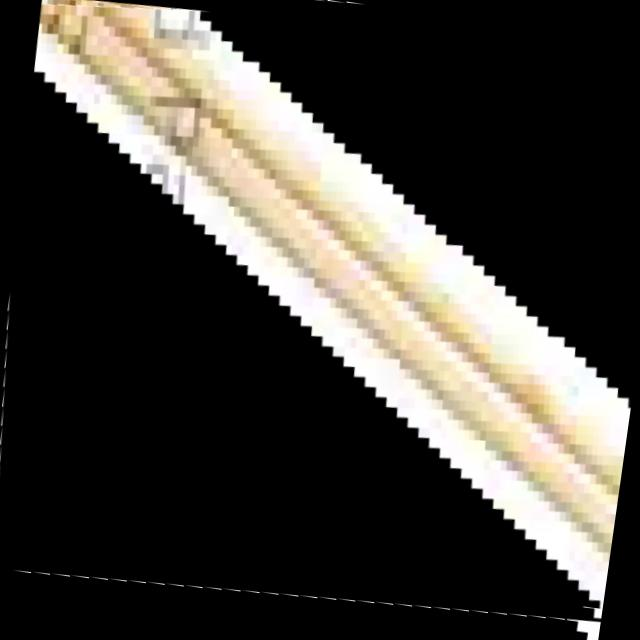others: (37, 0, 631, 599)
